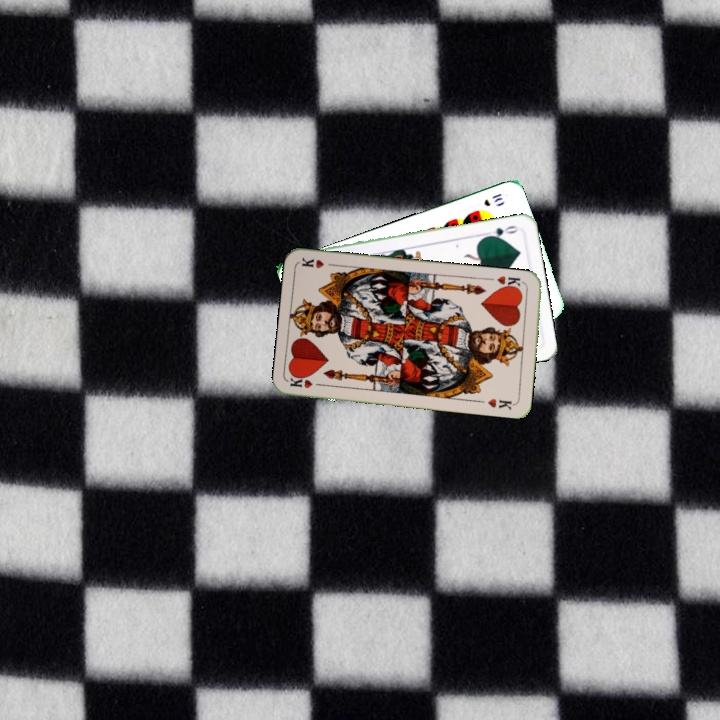GO: (481, 221, 521, 241)
HK: (287, 372, 327, 391), (493, 272, 527, 293)
S10: (480, 189, 505, 209)
